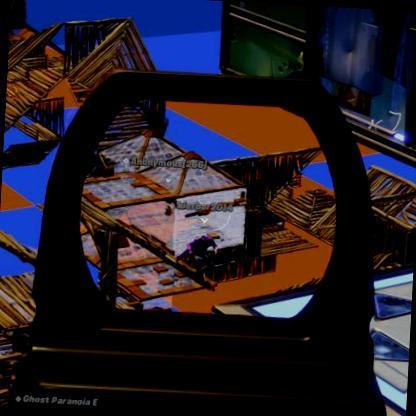person: (191, 232, 223, 282)
